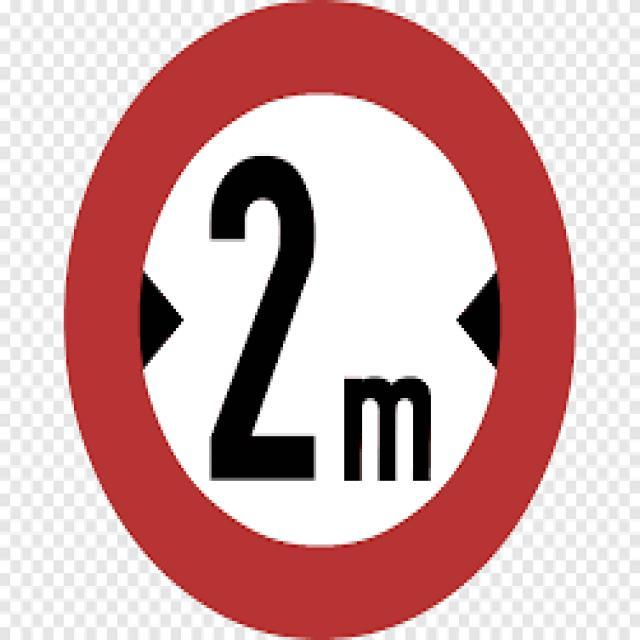width limit: (68, 29, 577, 610)
